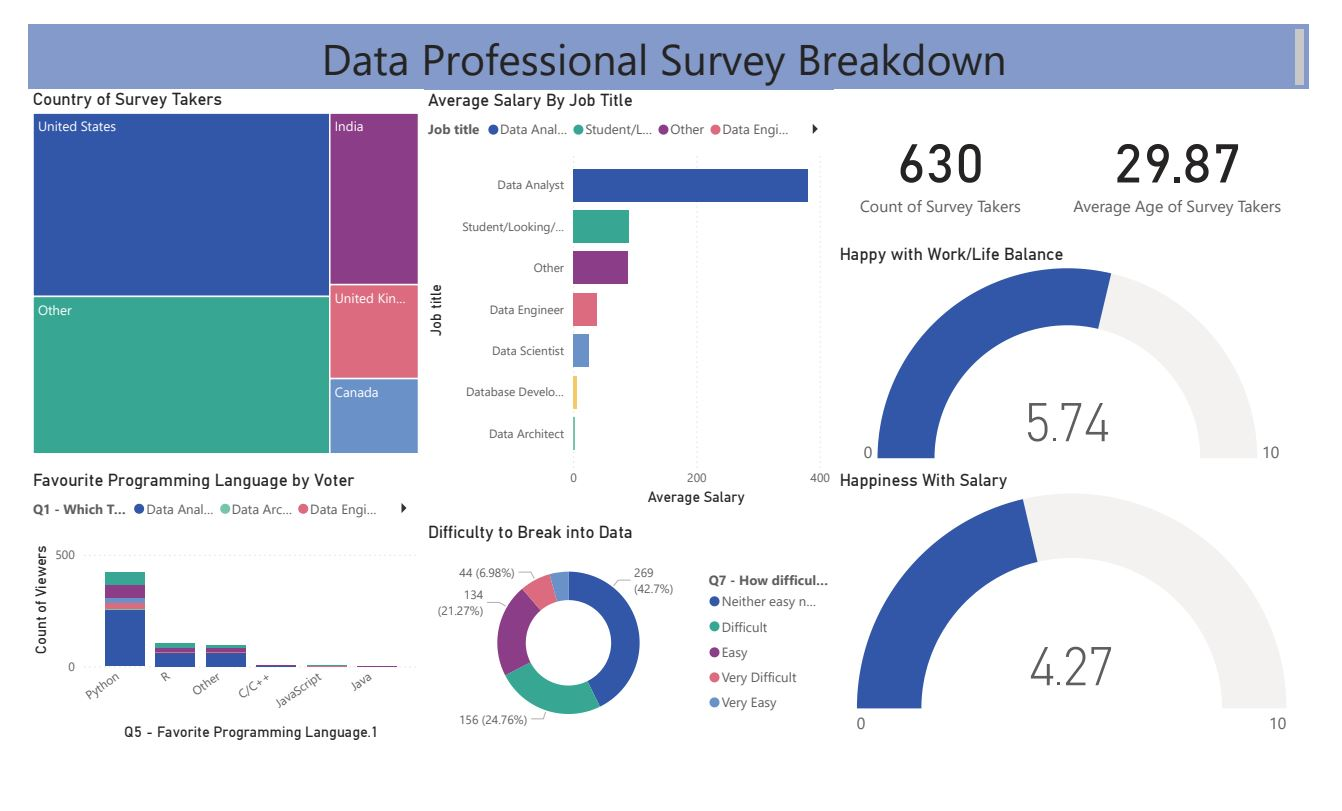

What the dashboard file says about the page in this screenshot:
{"tool":"powerbi","page":{"name":"Page 1","canvas":[1280,720],"ordinal":0},"visuals":[{"type":"textbox","box":[0,0,1279.8,65.7],"z":0},{"type":"card","fields":{"Values":["CountNonNull(Data Professional Survey.Email)"]},"box":[806.3,65.3,211.3,156.1],"z":1},{"type":"card","fields":{"Values":["Avg(Data Professional Survey.Q10 - Current Age)"]},"box":[1017.5,65.3,262.3,156.1],"z":2},{"type":"gauge","title":"Happy with Work/Life Balance","fields":{"Y":["Avg(Data Professional Survey.Q6 - How Happy are you in your Current Position with the following? (Work/Life Balance))"],"MaxValue":["Max(Data Professional Survey.Q6 - How Happy are you in your Current Position with the following? (Work/Life Balance))"],"MinValue":["Min(Data Professional Survey.Q6 - How Happy are you in your Current Position with the following? (Work/Life Balance))1"]},"box":[806.2,220.6,473.6,223.9],"z":3},{"type":"gauge","title":"Happiness With Salary","fields":{"Y":["Avg(Data Professional Survey.Q6 - How Happy are you in your Current Position with the following? (Salary))"],"MaxValue":["Max(Data Professional Survey.Q6 - How Happy are you in your Current Position with the following? (Salary))1"],"MinValue":["Min(Data Professional Survey.Q6 - How Happy are you in your Current Position with the following? (Salary))2"]},"box":[806.2,444.5,473.6,275.4],"z":4},{"type":"treemap","title":"Country of Survey Takers","fields":{"Group":["Data Professional Survey.Q11 - Which Country do you live in?.1"],"Values":["CountNonNull(Data Professional Survey.Q11 - Which Country do you live in?.1)"]},"box":[0,64.9,395.2,369.5],"z":5},{"type":"barChart","title":"Average Salary By Job Title","fields":{"Series":["Data Professional Survey.Q1 - Which Title Best Fits your Current Role?.1"],"Category":["Data Professional Survey.Q1 - Which Title Best Fits your Current Role?.1"],"Y":["CountNonNull(Data Professional Survey.Average Yearly Salary)"]},"box":[395,66.2,411.2,418.8],"z":6},{"type":"columnChart","title":"Favourite Programming Language by Voter","fields":{"Category":["Data Professional Survey.Q5 - Favorite Programming Language.1"],"Y":["CountNonNull(Data Professional Survey.Unique ID)"],"Series":["Data Professional Survey.Q1 - Which Title Best Fits your Current Role?.1"]},"box":[0,445,395,275],"z":7},{"type":"donutChart","title":"Difficulty to Break into Data","fields":{"Category":["Data Professional Survey.Q7 - How difficult was it for you to break into Data?"],"Y":["CountNonNull(Data Professional Survey.Q7 - How difficult was it for you to break into Data?)"]},"box":[395,497.5,411.2,222.5],"z":8}]}

Visuals, with their boxes on the page's 1280x720 design canvas (x1, y1, x2, y2). These are canvas units, not pixel positions in the 1342x811 screenshot, which may show the page scaled, cropped or inside an application window:
textbox: [x1=0, y1=0, x2=1280, y2=66]
card - CountNonNull(Data Professional Survey.Email): [x1=806, y1=65, x2=1018, y2=221]
card - Avg(Data Professional Survey.Q10 - Current Age): [x1=1018, y1=65, x2=1280, y2=221]
"Happy with Work/Life Balance" gauge: [x1=806, y1=221, x2=1280, y2=444]
"Happiness With Salary" gauge: [x1=806, y1=444, x2=1280, y2=720]
"Country of Survey Takers" treemap: [x1=0, y1=65, x2=395, y2=434]
"Average Salary By Job Title" barChart: [x1=395, y1=66, x2=806, y2=485]
"Favourite Programming Language by Voter" columnChart: [x1=0, y1=445, x2=395, y2=720]
"Difficulty to Break into Data" donutChart: [x1=395, y1=498, x2=806, y2=720]
